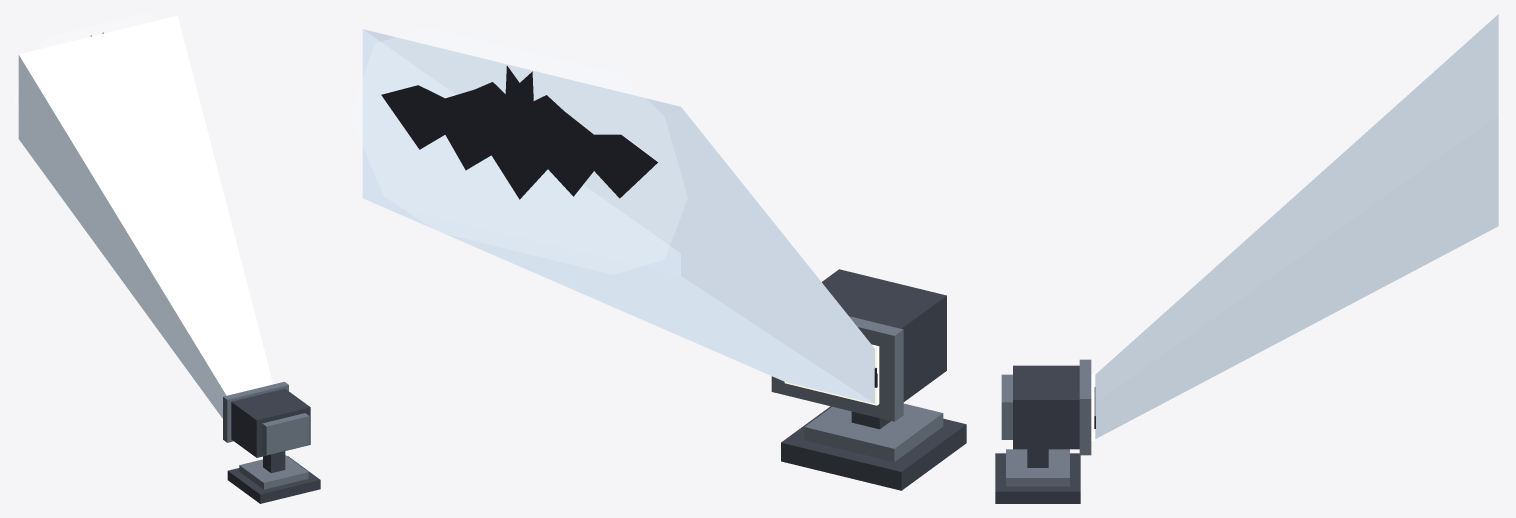
The model's file is gotham_bat_signal.glb.
The picture shows the model from 3 angles, left to right: view 1: azimuth 30°, elevation 25°; view 2: azimuth 150°, elevation 25°; view 3: azimuth 270°, elevation 25°; orthographic projection. The views are drawn at different scales.
Parts seen in each view (by area): view 1: translucent beam cone, lamp housing, housing rear cap, mount lower step, mount upper step, Signal projected cloud, housing front rim, support column; view 2: translucent beam cone, Signal projected cloud, Signal projected bat, lamp housing, mount lower step, mount upper step, housing front rim; view 3: translucent beam cone, lamp housing, mount lower step, mount upper step, housing front rim, housing rear cap.
Part boxes in pixels (x1=…): translucent beam cone: x1=18, y1=15, x2=272, y2=418; lamp housing: x1=231, y1=388, x2=310, y2=457; housing rear cap: x1=262, y1=413, x2=309, y2=455; mount lower step: x1=227, y1=456, x2=320, y2=503; mount upper step: x1=239, y1=455, x2=308, y2=489; Signal projected cloud: x1=15, y1=14, x2=160, y2=108; housing front rim: x1=223, y1=381, x2=288, y2=442; support column: x1=263, y1=451, x2=285, y2=473; translucent beam cone: x1=362, y1=29, x2=874, y2=403; Signal projected cloud: x1=350, y1=27, x2=687, y2=274; Signal projected bat: x1=381, y1=66, x2=657, y2=199; lamp housing: x1=822, y1=269, x2=946, y2=401; mount lower step: x1=781, y1=406, x2=966, y2=490; mount upper step: x1=804, y1=403, x2=943, y2=462; housing front rim: x1=771, y1=316, x2=903, y2=421; translucent beam cone: x1=1095, y1=14, x2=1498, y2=438; lamp housing: x1=1013, y1=365, x2=1079, y2=449; mount lower step: x1=995, y1=453, x2=1080, y2=503; mount upper step: x1=1006, y1=449, x2=1069, y2=486; housing front rim: x1=1079, y1=359, x2=1091, y2=455; housing rear cap: x1=1001, y1=374, x2=1012, y2=439.
Size of the model in its own units: 2.64 by 4.92 by 5.22.
